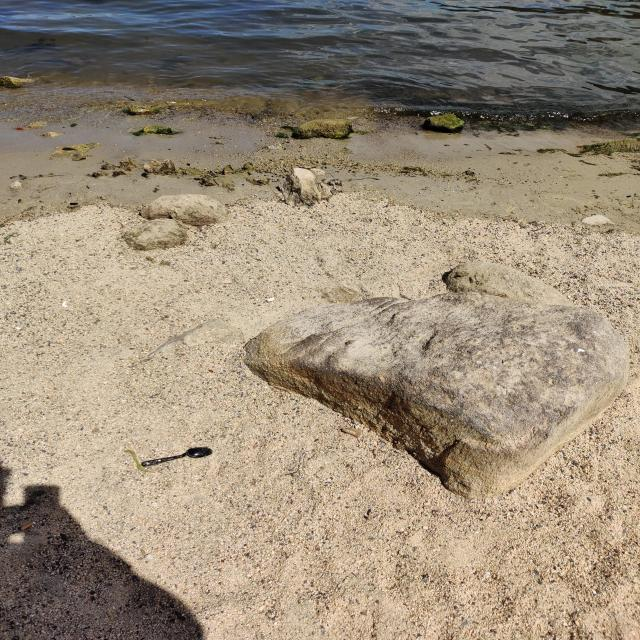litter: (142, 447, 212, 466)
